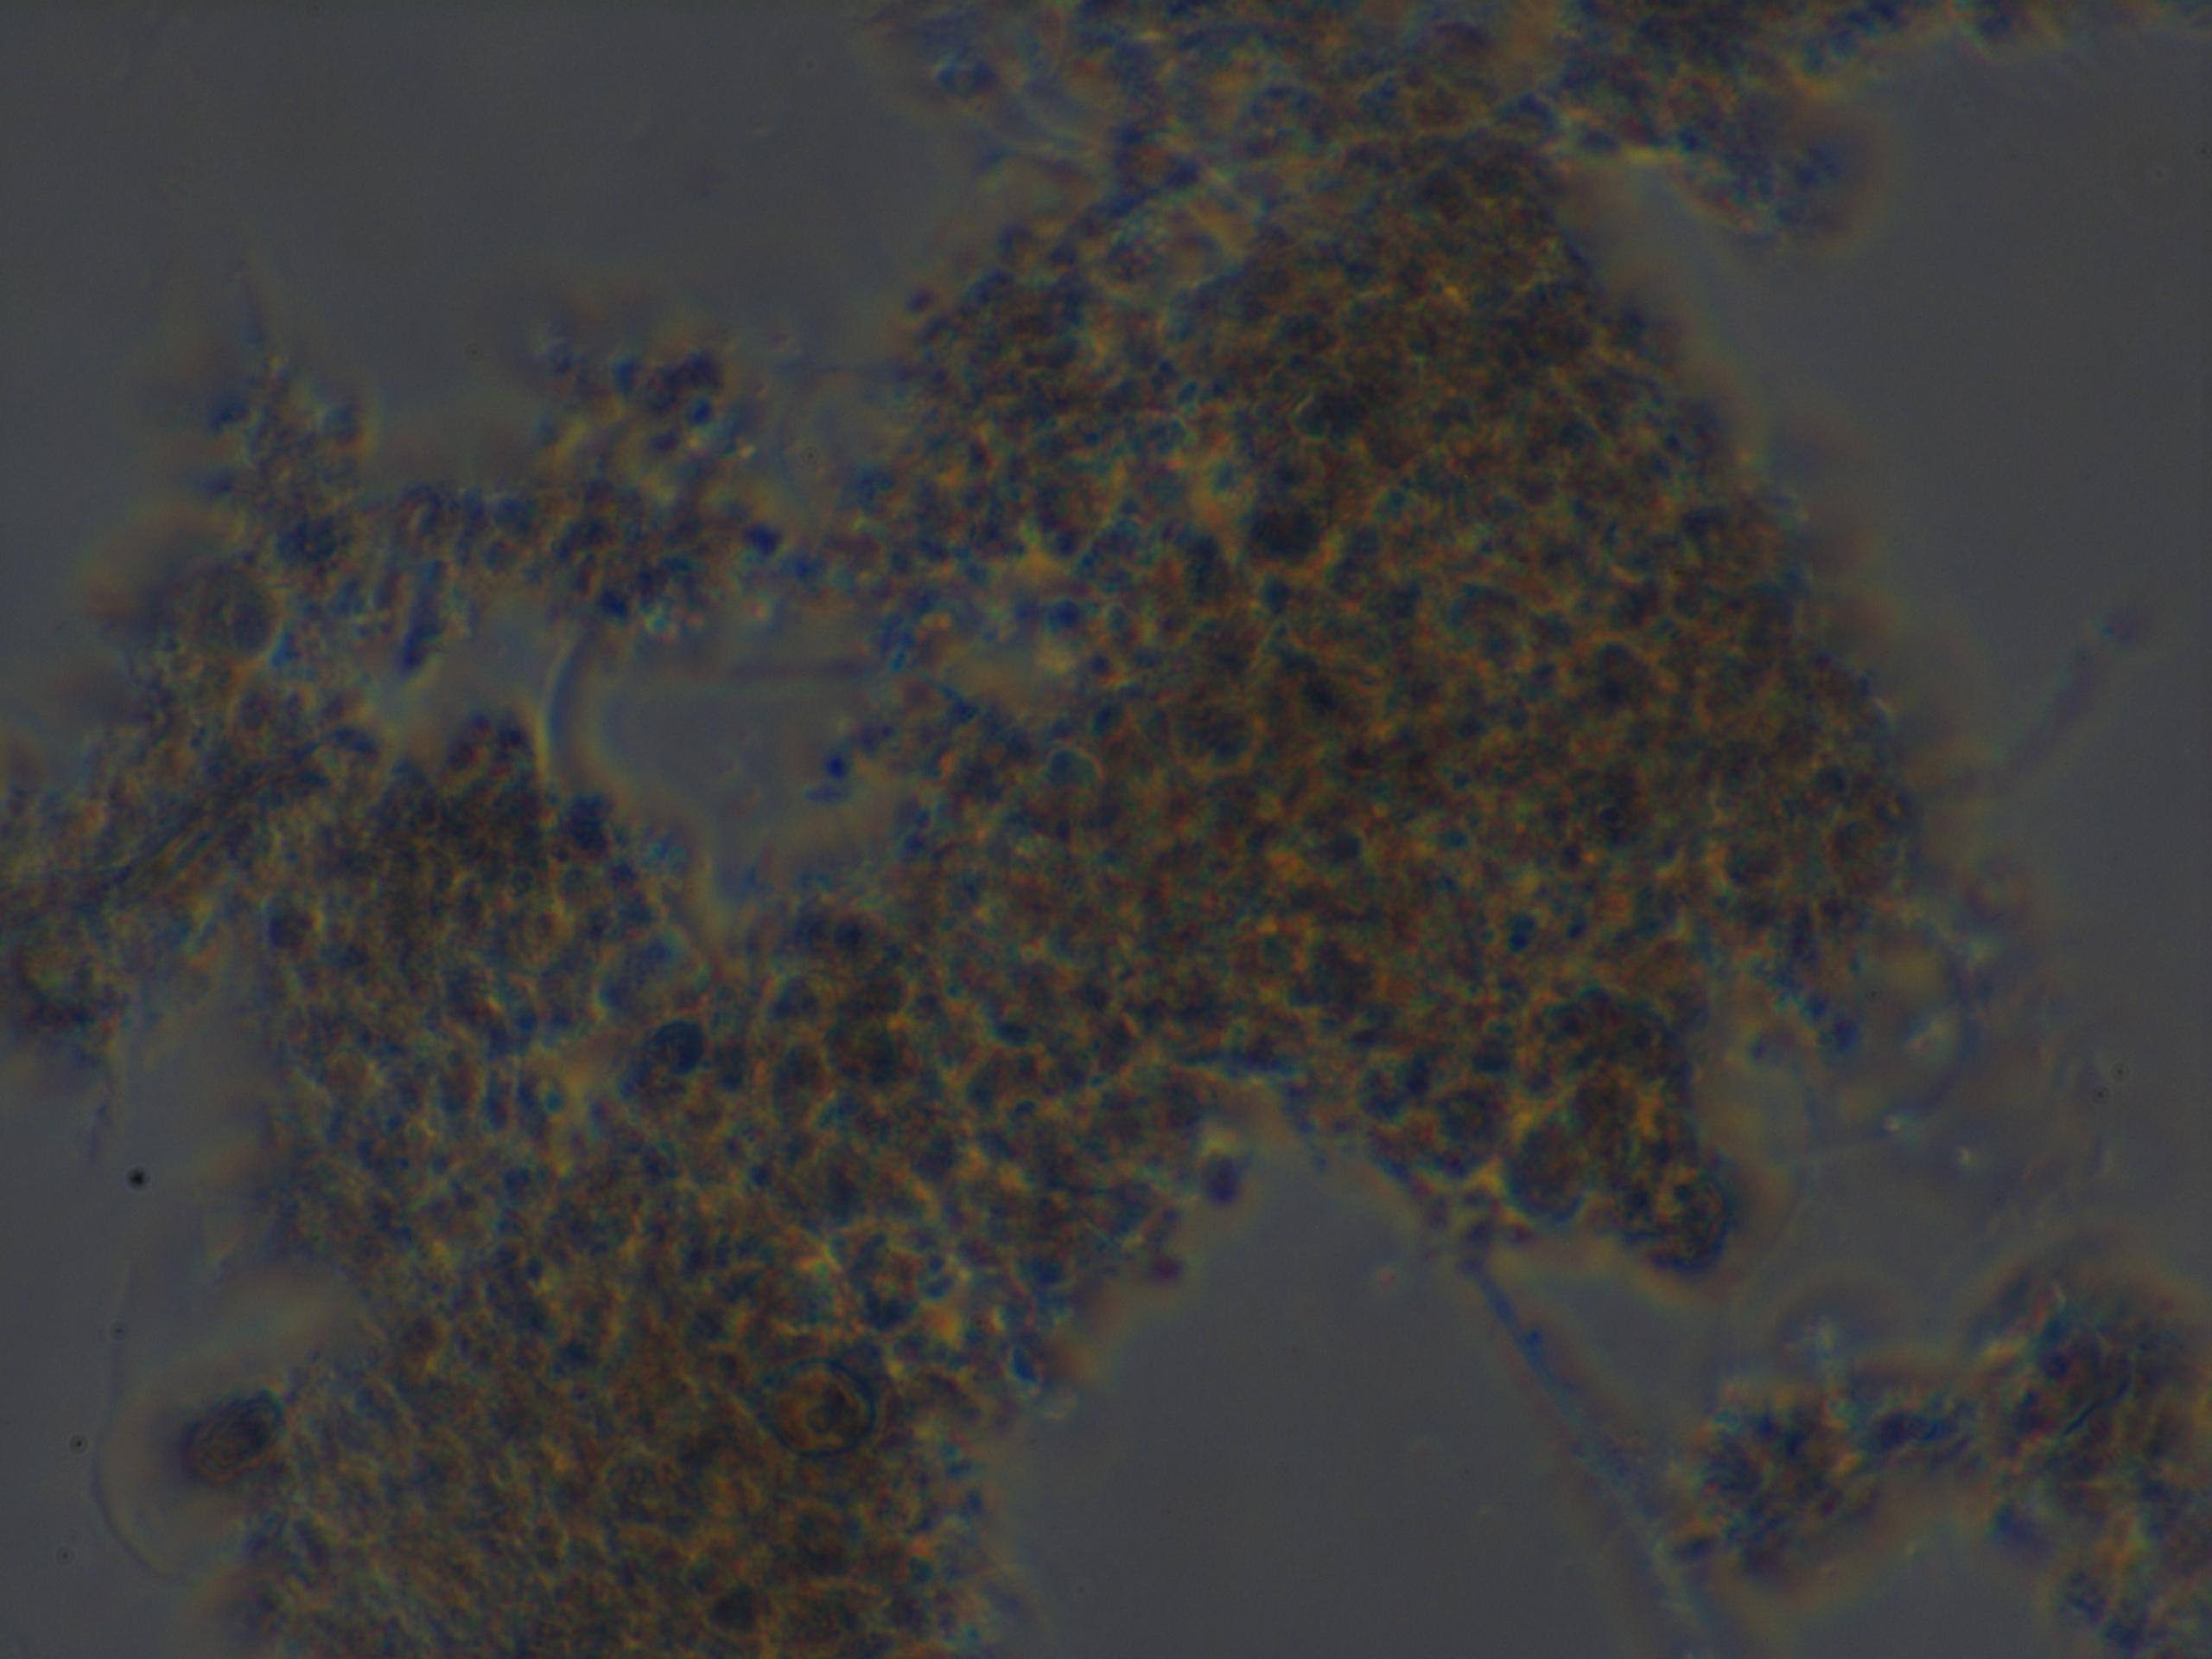filament: (1453, 1249, 1724, 1656)
open_floc: (0, 0, 1940, 1659)
